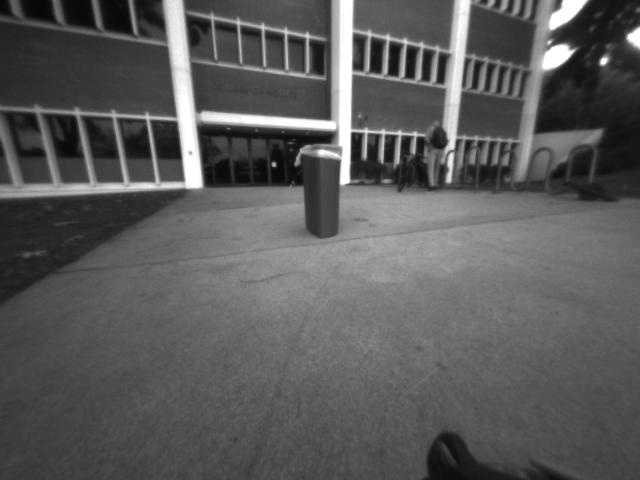trashcan: (296, 138, 350, 242)
